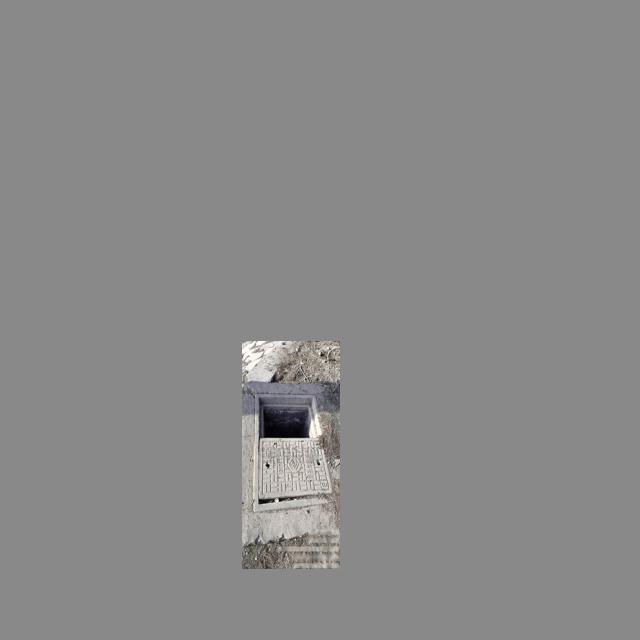lose: (254, 393, 334, 513)
